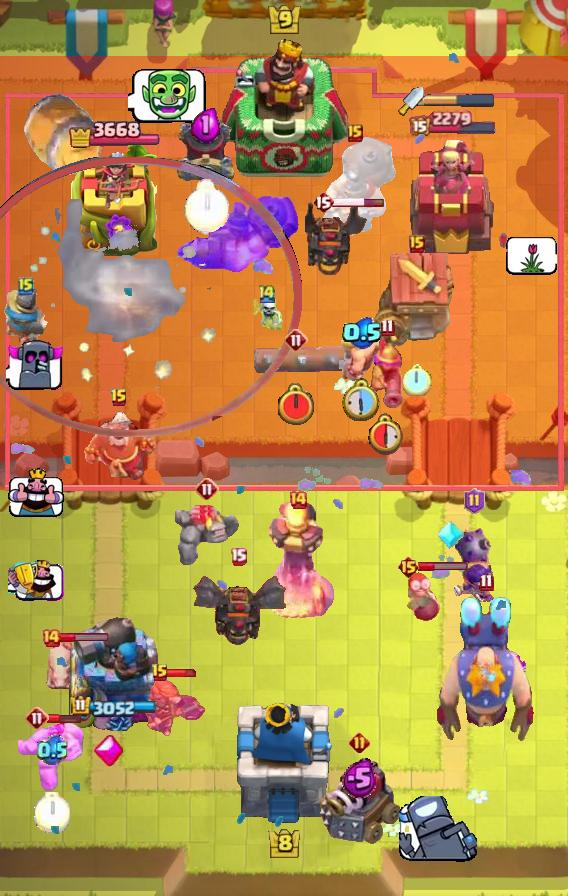archer-evolution: (190, 569, 286, 647), (305, 198, 371, 278)
bar: (409, 138, 497, 256)
bomb-tower: (367, 333, 407, 409)
dirt: (19, 91, 105, 179)
electro-dragon: (259, 499, 337, 625)
electro-spirit: (343, 758, 378, 799), (342, 317, 383, 349), (191, 105, 221, 143), (36, 735, 67, 766)
elixir: (184, 180, 228, 233), (342, 378, 382, 422), (276, 383, 316, 427), (369, 413, 408, 455), (34, 791, 70, 833), (403, 364, 432, 396)
elixir-collector: (80, 408, 158, 482)
emote: (331, 196, 385, 207), (418, 560, 469, 571), (58, 633, 109, 644), (46, 712, 82, 723), (167, 668, 199, 678)
firecracker: (2, 288, 50, 349)
giant: (45, 640, 79, 696)
goblin-ball: (450, 511, 498, 607)
goblin-giant: (339, 329, 385, 383)
golem: (315, 756, 403, 846)
heal-spirit: (251, 294, 283, 330)
ice-golem: (406, 572, 442, 624)
king-tower: (218, 37, 350, 181), (235, 703, 333, 826)
king-tower-bar: (424, 93, 496, 107)
little-prince: (434, 596, 538, 744)
minion: (242, 342, 350, 378)
musketeer: (175, 117, 237, 185)
pad_2: (437, 519, 465, 551)
queen-tower: (71, 144, 157, 255)
royal-ghost: (0, 157, 302, 437)
selected: (68, 117, 160, 153), (410, 109, 499, 136), (71, 695, 157, 717)
skeleton: (399, 796, 477, 864), (128, 66, 208, 126), (6, 337, 66, 391), (8, 468, 64, 518), (7, 558, 64, 601), (507, 236, 558, 275)
skeleton-king-skill: (92, 734, 124, 768)
sparky: (374, 252, 460, 350)
tesla-evolution: (143, 675, 207, 739)
text: (284, 328, 308, 352), (195, 477, 219, 501), (25, 706, 49, 730), (463, 488, 485, 514), (397, 555, 420, 579), (312, 190, 334, 214), (350, 731, 371, 753), (257, 283, 277, 305), (288, 490, 308, 510), (41, 628, 61, 648), (110, 388, 128, 408), (151, 663, 169, 683), (229, 547, 247, 566), (18, 276, 34, 296), (347, 124, 363, 142), (409, 235, 425, 253), (381, 318, 396, 337), (479, 573, 493, 592)
tower-bar: (68, 611, 160, 731)
valkyrie-evolution: (18, 721, 86, 793), (174, 504, 240, 566)
wizard: (176, 195, 300, 273), (311, 135, 399, 243)
